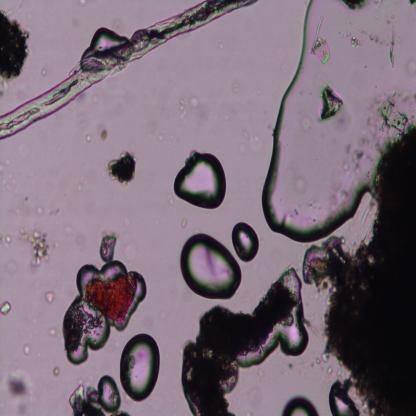Air bubble: (259, 0, 416, 239), (180, 233, 242, 300), (171, 147, 226, 211), (60, 299, 110, 366), (120, 331, 160, 403), (231, 220, 260, 264), (94, 372, 122, 413), (328, 378, 359, 415), (282, 394, 320, 415), (76, 262, 96, 294)
Background material: (303, 124, 416, 415), (180, 286, 294, 415), (237, 312, 313, 368), (0, 8, 32, 90), (374, 93, 407, 146), (16, 229, 52, 269), (337, 128, 365, 178), (81, 28, 124, 59), (4, 370, 35, 412), (106, 148, 138, 187), (0, 155, 26, 198), (311, 16, 333, 63), (318, 85, 344, 123), (76, 93, 98, 134), (343, 27, 381, 50), (177, 97, 202, 121), (100, 233, 116, 262), (290, 170, 309, 194), (387, 22, 396, 70), (36, 204, 60, 220), (341, 0, 372, 12), (119, 244, 140, 261), (403, 58, 416, 76), (229, 80, 242, 94), (0, 301, 12, 316), (45, 289, 56, 305), (17, 143, 31, 155), (21, 342, 32, 357), (50, 366, 62, 378), (83, 132, 94, 144), (66, 221, 74, 236), (49, 325, 58, 338), (180, 217, 190, 228), (217, 37, 225, 50), (99, 128, 107, 141), (4, 235, 12, 246)
Cellulose filter fibre: (0, 0, 257, 141)
Fragment: (82, 269, 138, 323)
